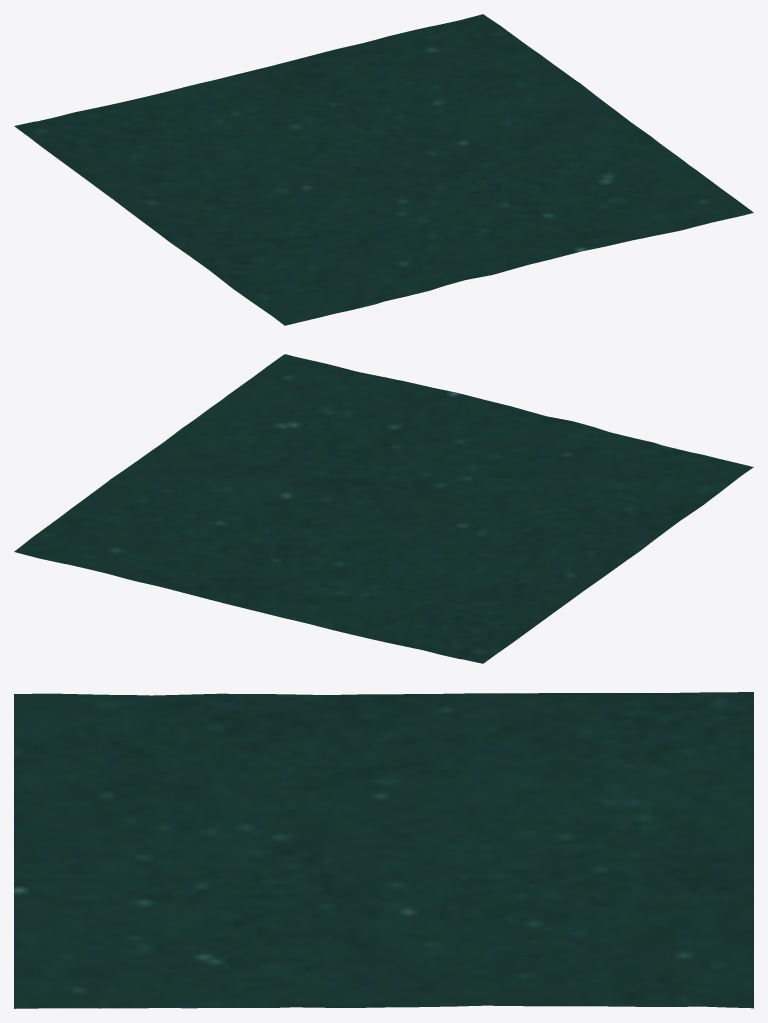
3 renders of one model, top to bottom at view 1: azimuth 30°, elevation 25°; view 2: azimuth 150°, elevation 25°; view 3: azimuth 270°, elevation 25°, orthographic. The views are drawn at different scales.
Bounding box in the file's own units: 52.22 × 0.5196 × 52.22.
2 materials, 2 textured.
